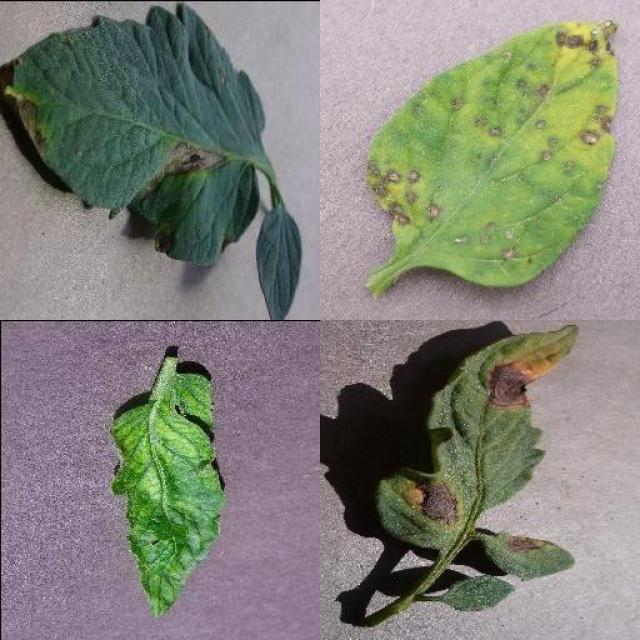Early Blight: (2, 0, 264, 266), (378, 322, 582, 552)
Healthy: (254, 208, 302, 320)
Septoria: (368, 20, 618, 288)
